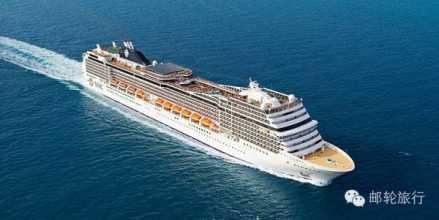youlun: (75, 35, 357, 187)
